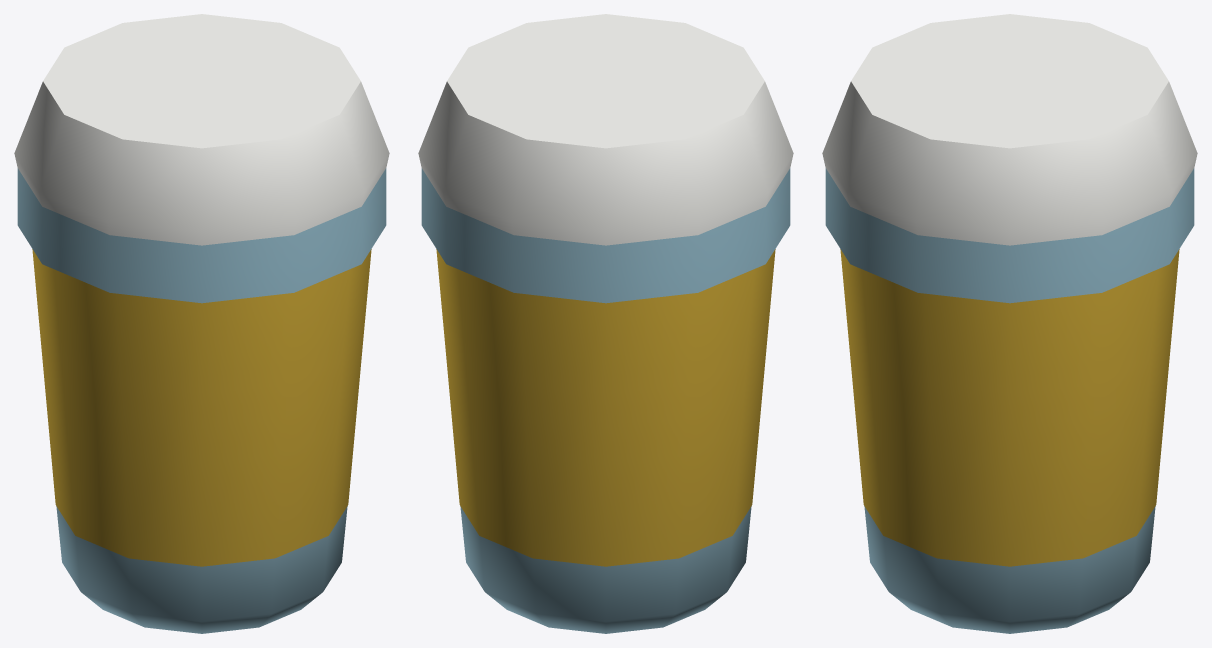
Rendered from SM_BeerGlass_Pint_01.glb.
3 renders of one model, left to right at view 1: azimuth 30°, elevation 25°; view 2: azimuth 150°, elevation 25°; view 3: azimuth 270°, elevation 25°, orthographic.
Visible parts, largest first — view 1: SM_BeerGlass_Pint_01; view 2: SM_BeerGlass_Pint_01; view 3: SM_BeerGlass_Pint_01.
Part boxes in pixels (left/top/right/bottom): SM_BeerGlass_Pint_01: left=14, top=14, right=389, bottom=633; SM_BeerGlass_Pint_01: left=418, top=14, right=793, bottom=633; SM_BeerGlass_Pint_01: left=822, top=14, right=1197, bottom=633.
Bounding box in the file's own units: 0.118 × 0.175 × 0.118.
1 material, 1 textured.
